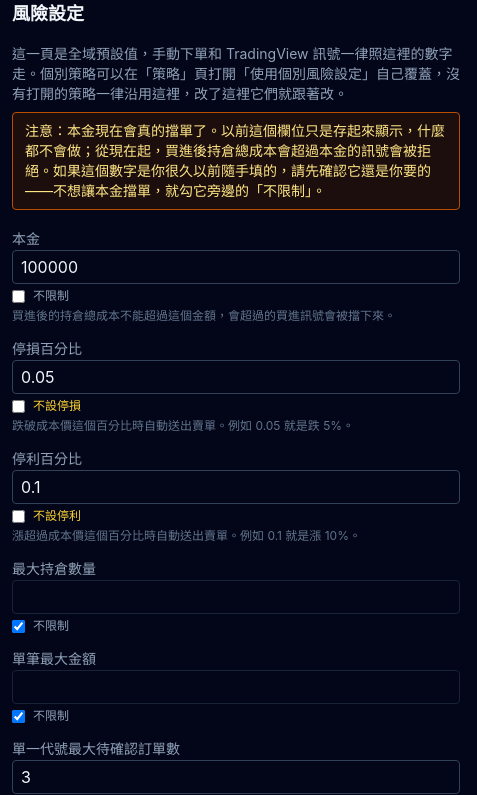
Scenario: RiskSettingsPage › refuses to save a blank field instead of sending an empty number
The image size is (477, 795).
Clear the field labelled "本金": x=236, y=267 [12,250,460,284]
(page scrolled)
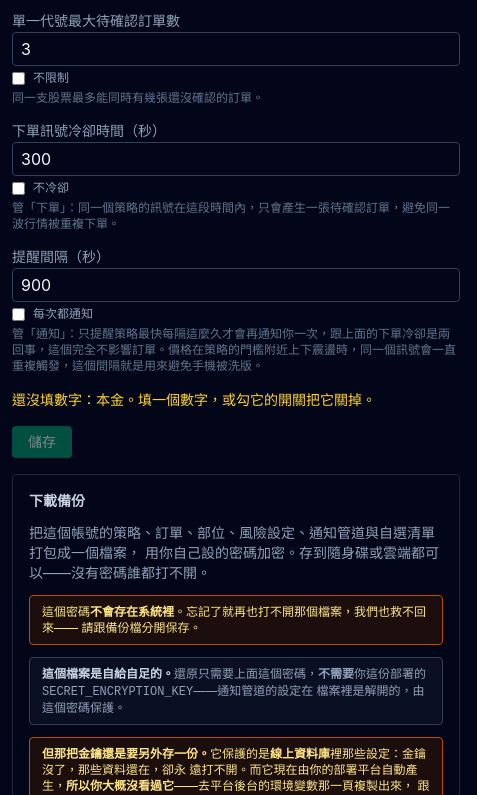
Expected: the button "儲存" is disabled, [12,426,72,458]
Expected: the text "還沒填數字：本金。填一個數字，或勾它的開關把它關掉。" is shown, [12,391,376,408]
